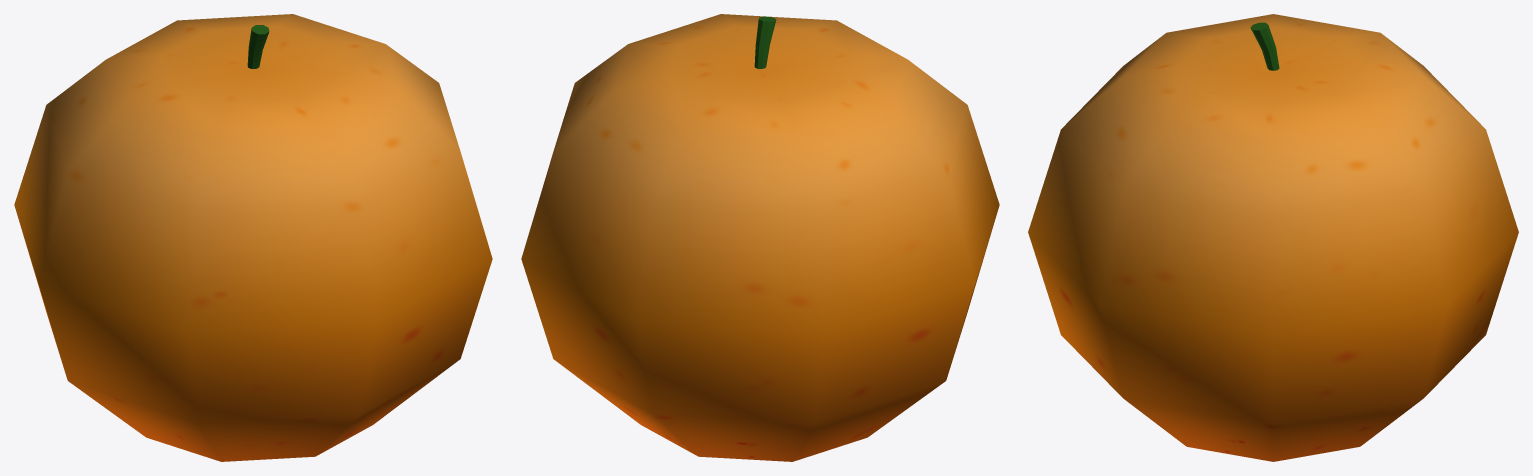
Rendered from orange.glb.
The picture shows the model from 3 angles, left to right: view 1: azimuth 30°, elevation 25°; view 2: azimuth 150°, elevation 25°; view 3: azimuth 270°, elevation 25°; orthographic projection.
Parts seen in each view (by area): view 1: orange_mesh; view 2: orange_mesh; view 3: orange_mesh.
Part boxes in pixels (x1=…): orange_mesh: x1=14, y1=14, x2=492, y2=461; orange_mesh: x1=521, y1=14, x2=999, y2=461; orange_mesh: x1=1028, y1=14, x2=1518, y2=461.
Bounding box in the file's own units: 1.13 × 1.03 × 1.13.
